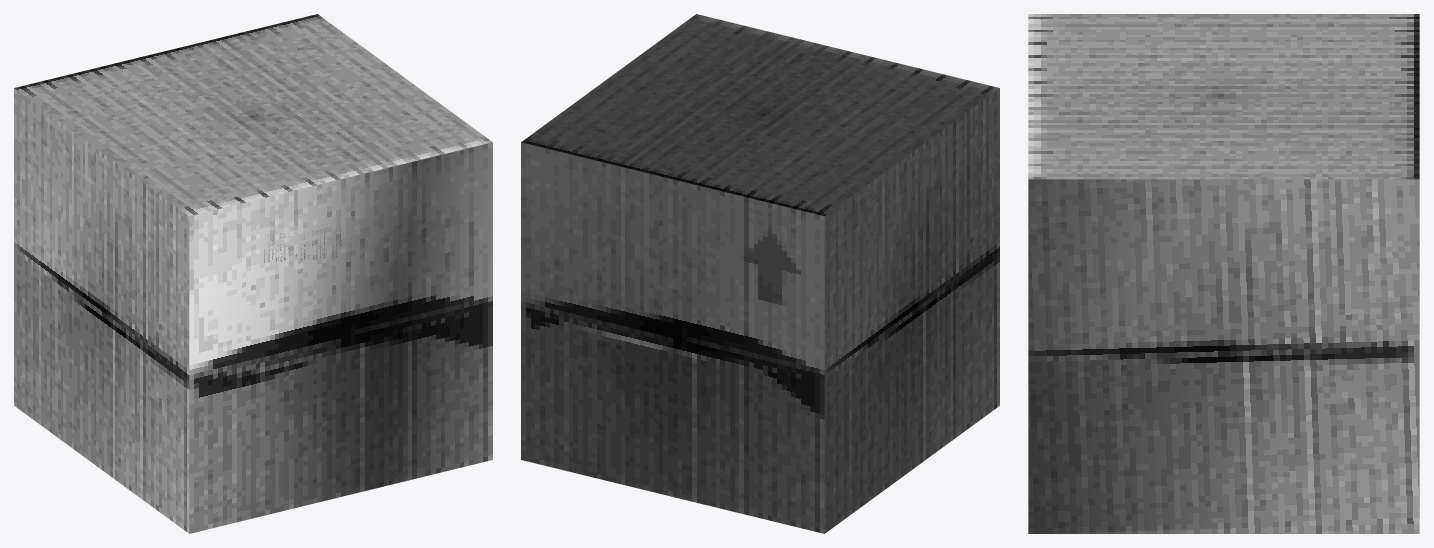
The model's file is Pcard_box5_lgZ.obj.
3 views of the same model, side by side, from view 1: azimuth 30°, elevation 25°; view 2: azimuth 150°, elevation 25°; view 3: azimuth 270°, elevation 25° (orthographic). The views are drawn at different scales.
Bounding box in the file's own units: 924 × 924 × 924.
5 materials, 5 textured.
